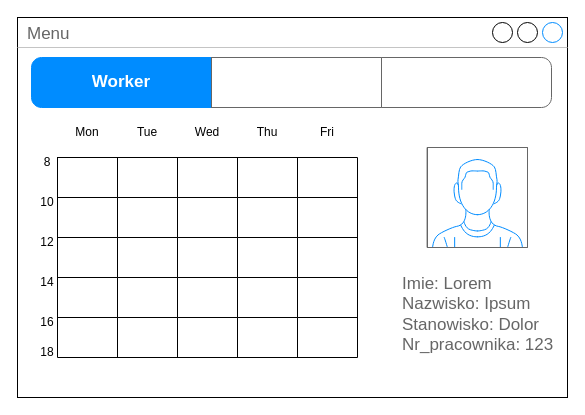
The diagram is 585 pixels wide and 415 high, and some of its shapes have lost their labels. Here are the shapes that lost their labels. From the top down, the box of each, then its label:
(210, 56, 382, 108): Physician
(380, 56, 552, 108): Technic
